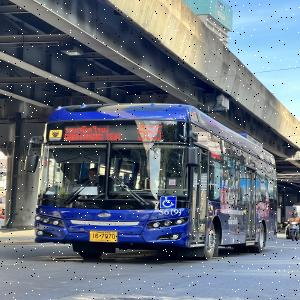Bus Line Number: (132, 120, 168, 142)
Bus Side Number: (155, 206, 182, 218)
Destination Sign: (62, 123, 125, 145)
TSB-Bus: (34, 103, 278, 260)
